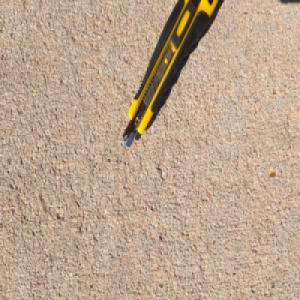Cutter: (121, 0, 222, 149)
